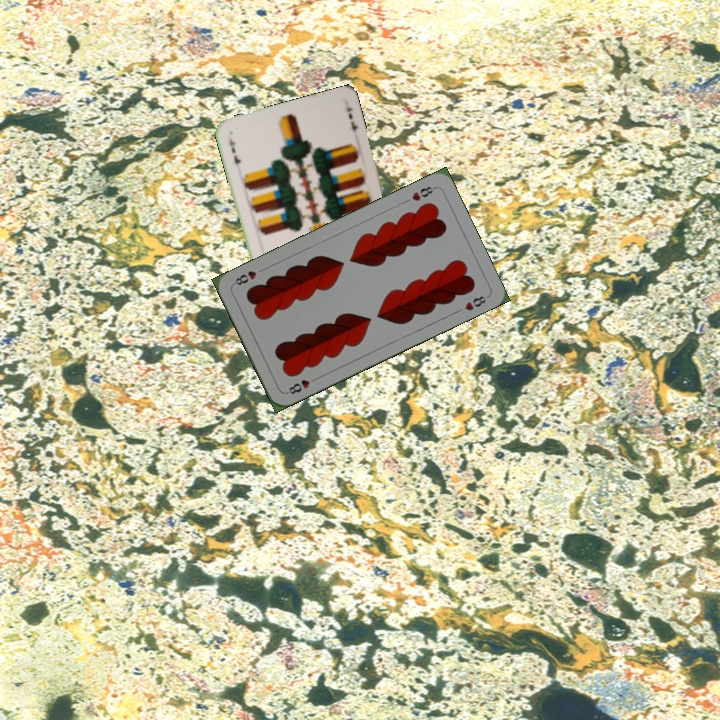E7: (225, 132, 243, 167)
H8: (282, 373, 320, 397), (407, 182, 438, 204)
